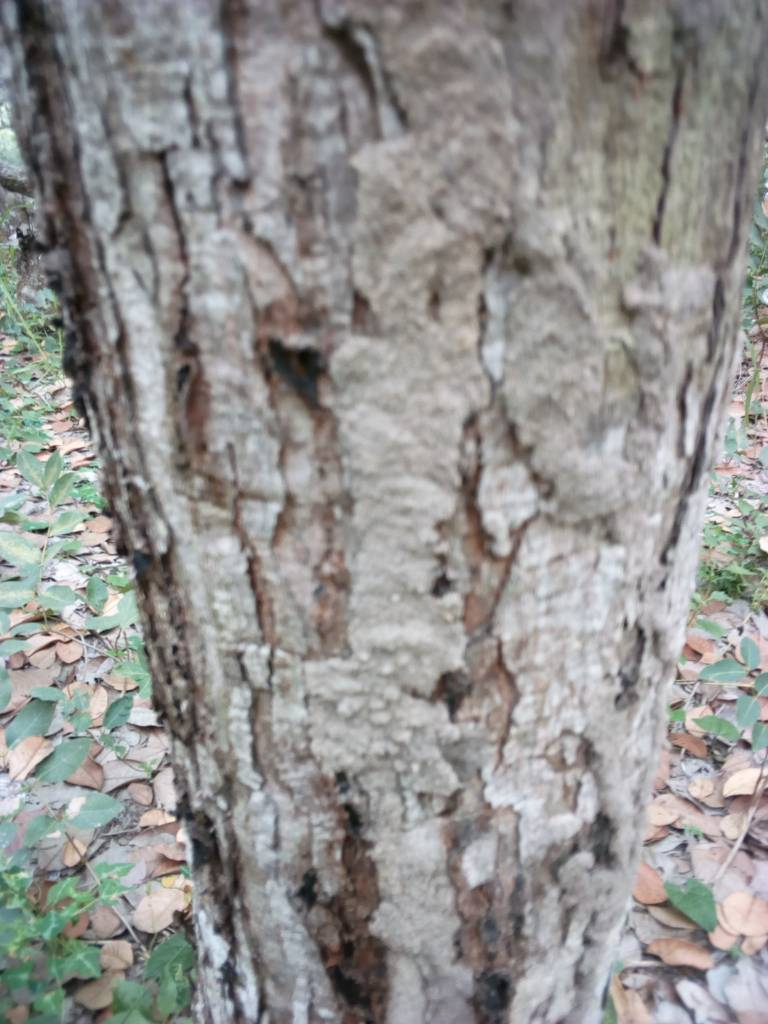Termites: (229, 7, 683, 997)
